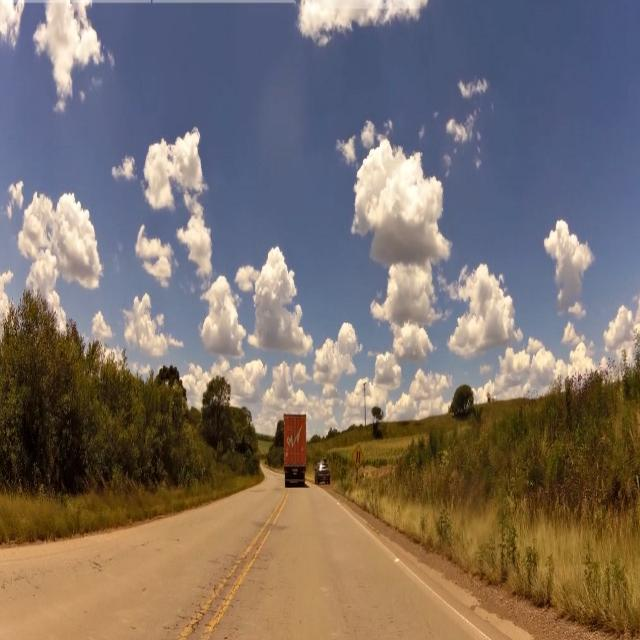A-22: (352, 444, 366, 471)
